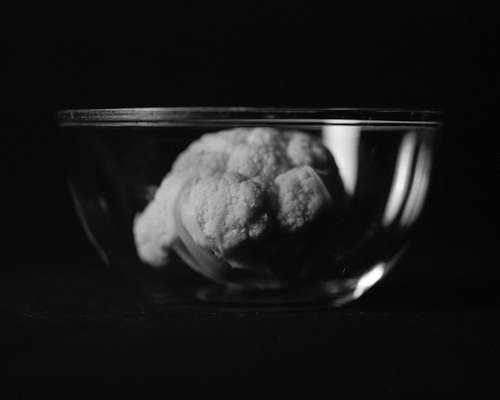cauliflower: (131, 125, 354, 279)
